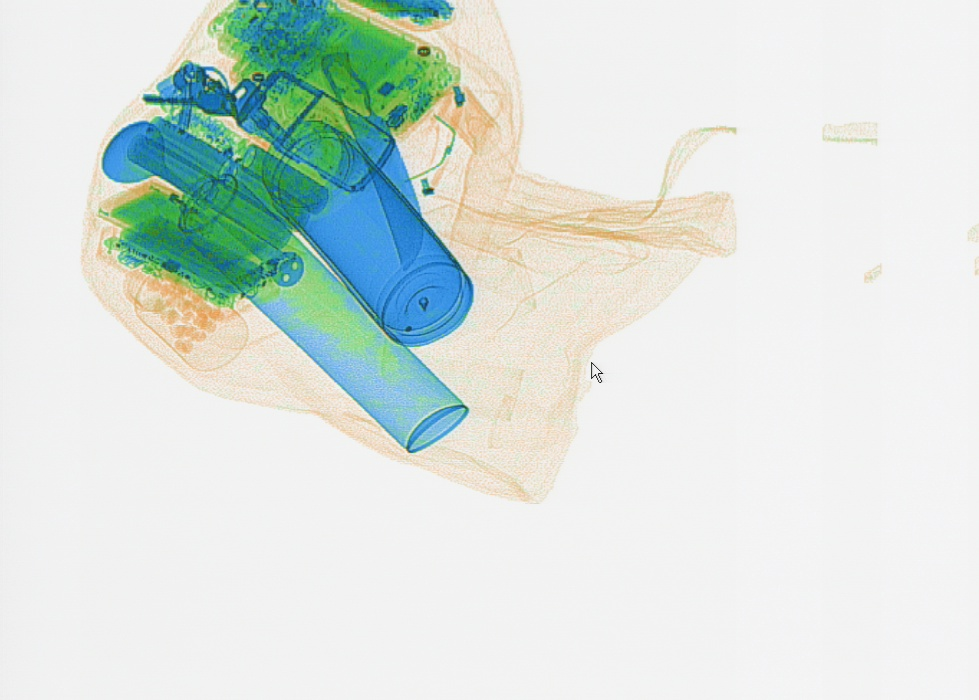knife: (321, 49, 431, 269)
lighter: (152, 179, 266, 272), (153, 180, 241, 250)
powerbank: (126, 96, 342, 252)
pressure: (178, 171, 468, 454)
